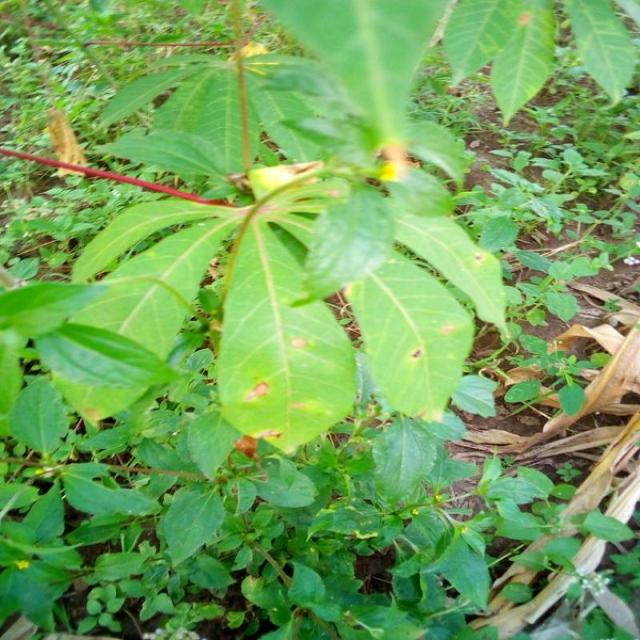cassava leaf: (215, 188, 358, 454), (345, 247, 475, 422)
